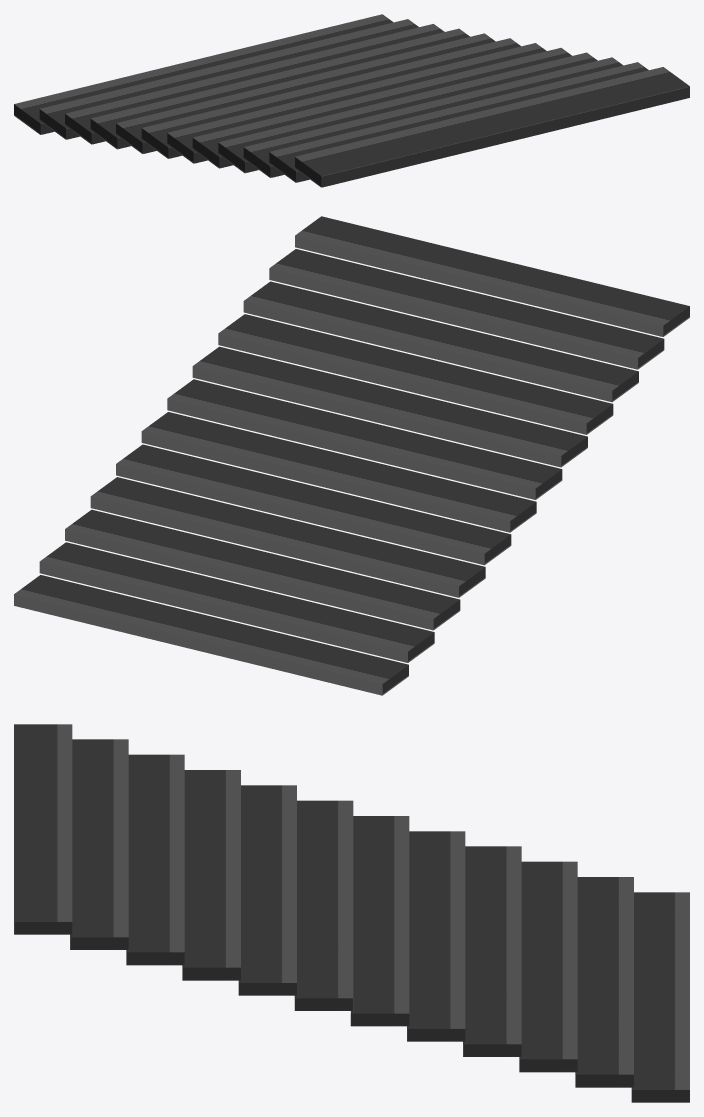
The model's file is Stair.glb.
3 views of the same model, one above another, from view 1: azimuth 30°, elevation 25°; view 2: azimuth 150°, elevation 25°; view 3: azimuth 270°, elevation 25° (orthographic). The views are drawn at different scales.
Visible parts, largest first — view 1: Cube; view 2: Cube; view 3: Cube.
Part boxes in pixels (x1,y1,x2,y2): Cube: (14,14,689,187); Cube: (14,216,689,695); Cube: (14,724,689,1102).
Bounding box in the file's own units: 4 × 1.71 × 5.78.
Materials: 1 (1 with a texture image).
